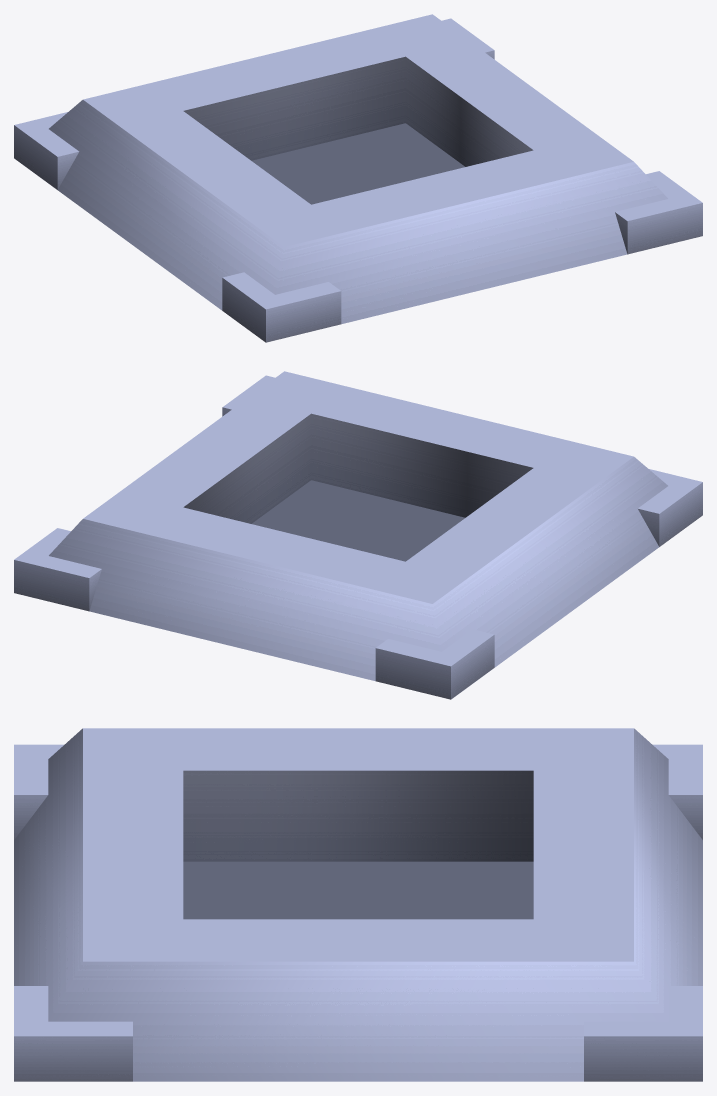
Rendered from tower-defense-kit--spawn-square.glb.
3 views of the same model, one above another, from view 1: azimuth 30°, elevation 25°; view 2: azimuth 150°, elevation 25°; view 3: azimuth 270°, elevation 25° (orthographic). The views are drawn at different scales.
Parts seen in each view (by area): view 1: spawn-square; view 2: spawn-square; view 3: spawn-square.
Part boxes in pixels (x1=…): spawn-square: x1=14, y1=14, x2=702, y2=342; spawn-square: x1=14, y1=371, x2=702, y2=699; spawn-square: x1=14, y1=728, x2=702, y2=1081.
Size of the model in its own units: 0.6875 by 0.1 by 0.6863.
Materials: 1 (1 with a texture image).
